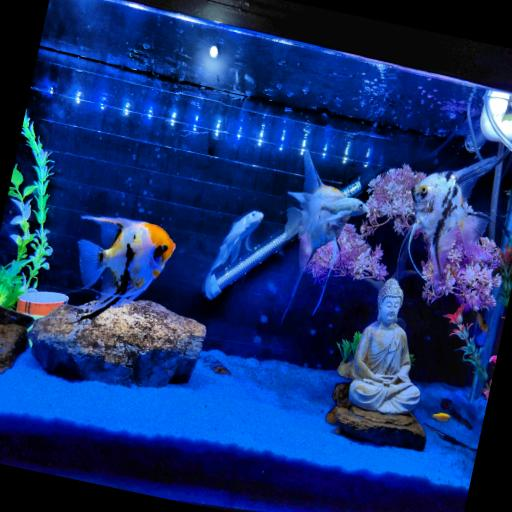Fish: (285, 151, 368, 296), (403, 157, 497, 285), (78, 216, 175, 307), (205, 211, 263, 299), (473, 313, 488, 346), (432, 413, 450, 422)
